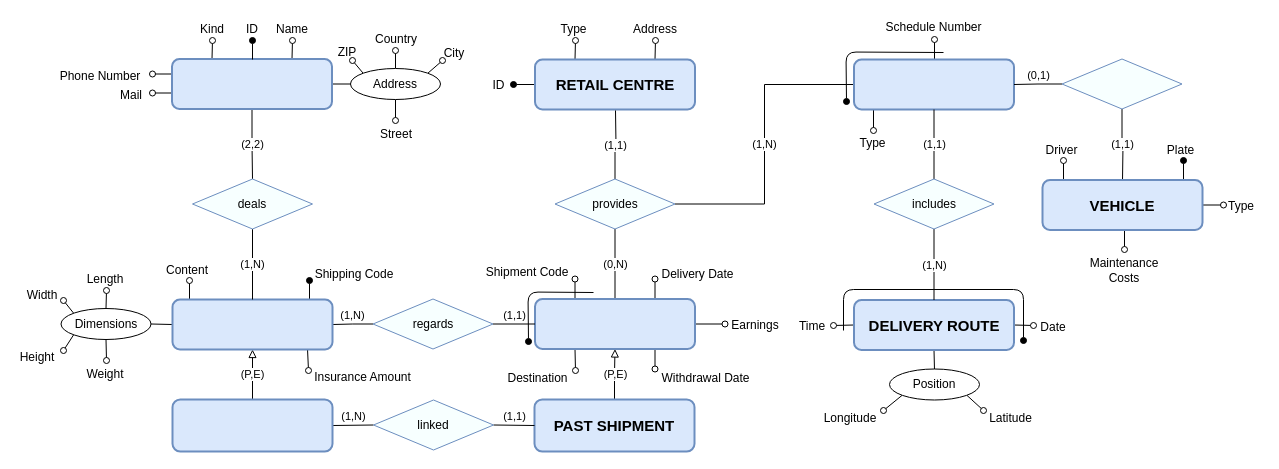
Some shapes in this 1279 by 469 pixel diagram are drawn without their labels. The shapes that lost their labels are listed below. From the top down, each one's centre as x and y in pixels, then its label:
[251,84]: DEALER
[933,84]: TRANSPORTATION EVENT
[1121,83]: transports
[252,324]: ITEM
[615,324]: SHIPMENT
[252,425]: SHIPPED ITEM
